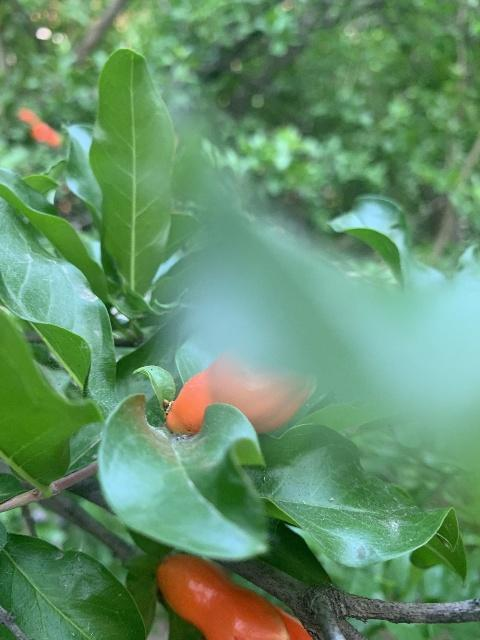bud: (166, 353, 313, 435)
flower: (156, 552, 312, 640)
